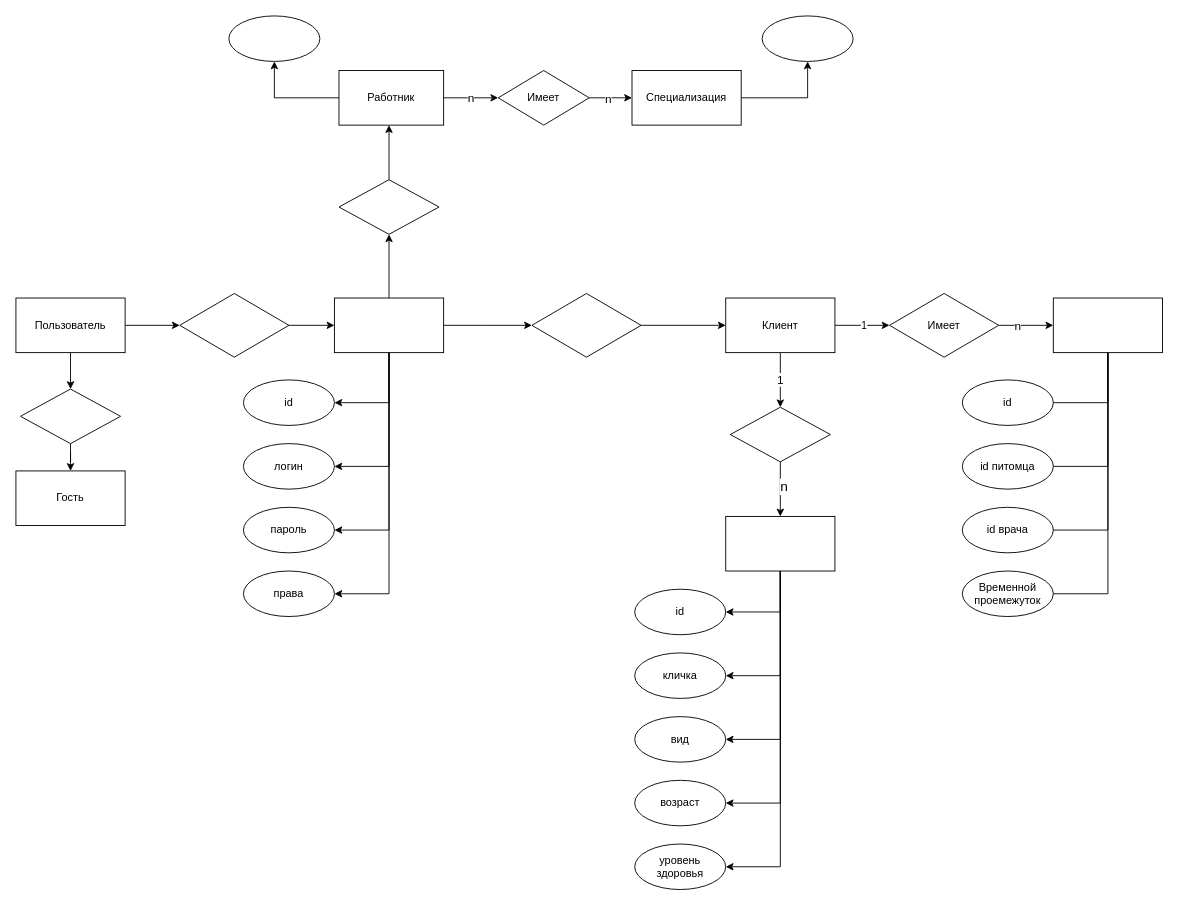
This 1178x905 diagram has some shape labels left out. The centre of each missing label's shape, as x and y in pixels:
Авторизированный пользователь: the point at 389,325
Есть учетная запись: the point at 234,325
Запись: the point at 1107,325
название специализации: the point at 807,38
Нет учетной записи: the point at 70,416
Питомец: the point at 780,543
Расписание: the point at 274,38
Является клиентом: the point at 586,325
Является работником: the point at 388,206
Является хозяином: the point at 779,434
